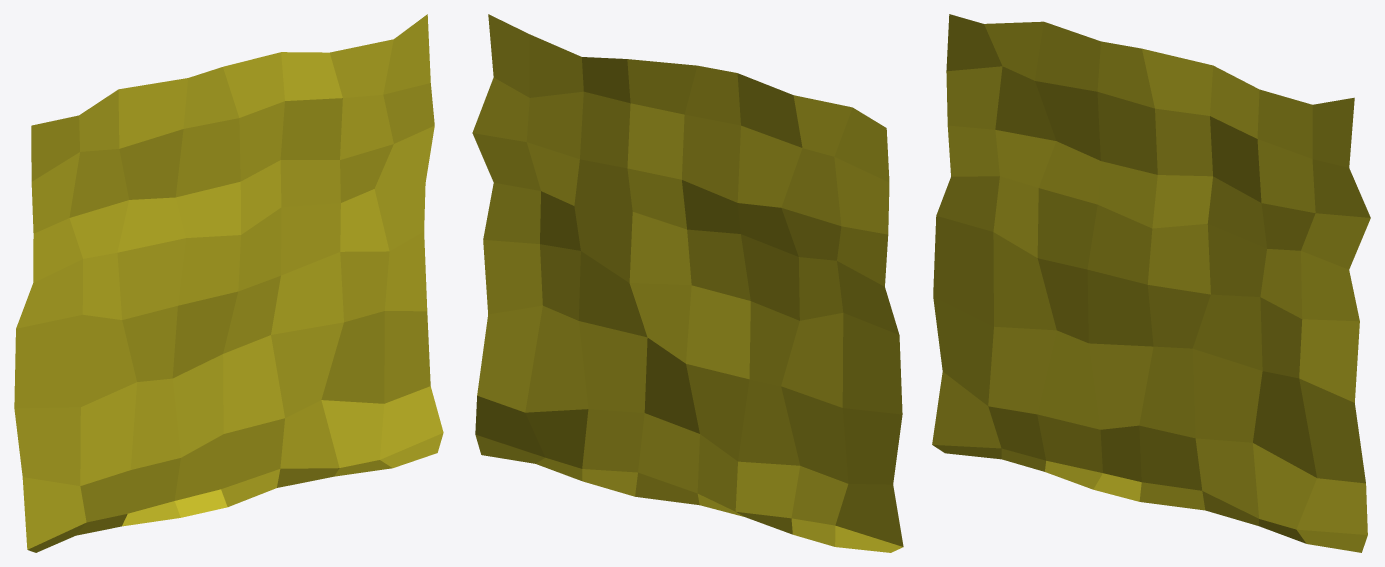
Rendered from Main_Grass.fbx.
3 renders of one model, left to right at view 1: azimuth 30°, elevation 25°; view 2: azimuth 150°, elevation 25°; view 3: azimuth 330°, elevation 25°, orthographic. The views are drawn at different scales.
Visible parts, largest first — view 1: Main_Grass; view 2: Main_Grass; view 3: Main_Grass.
Boxes of the visible parts, bbox=[...] form: Main_Grass: bbox=[14, 14, 443, 552]; Main_Grass: bbox=[472, 14, 903, 552]; Main_Grass: bbox=[932, 14, 1370, 552].
Size of the model in its own units: 209 by 206 by 9.46.
